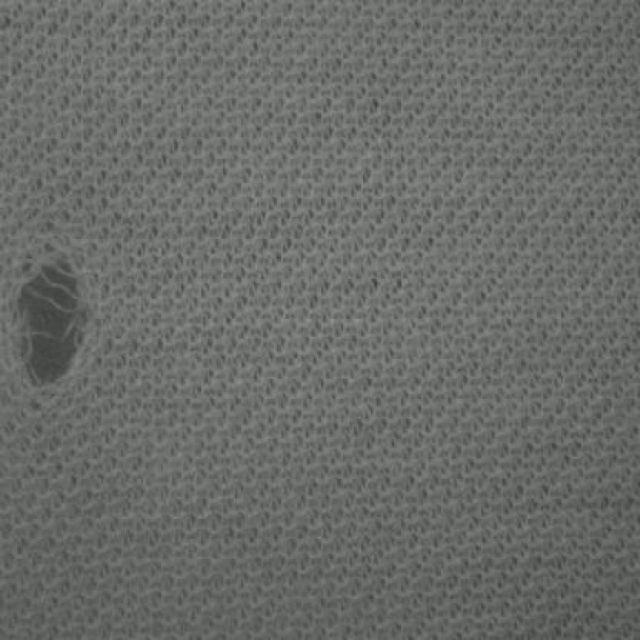Hole: (17, 262, 86, 386)
